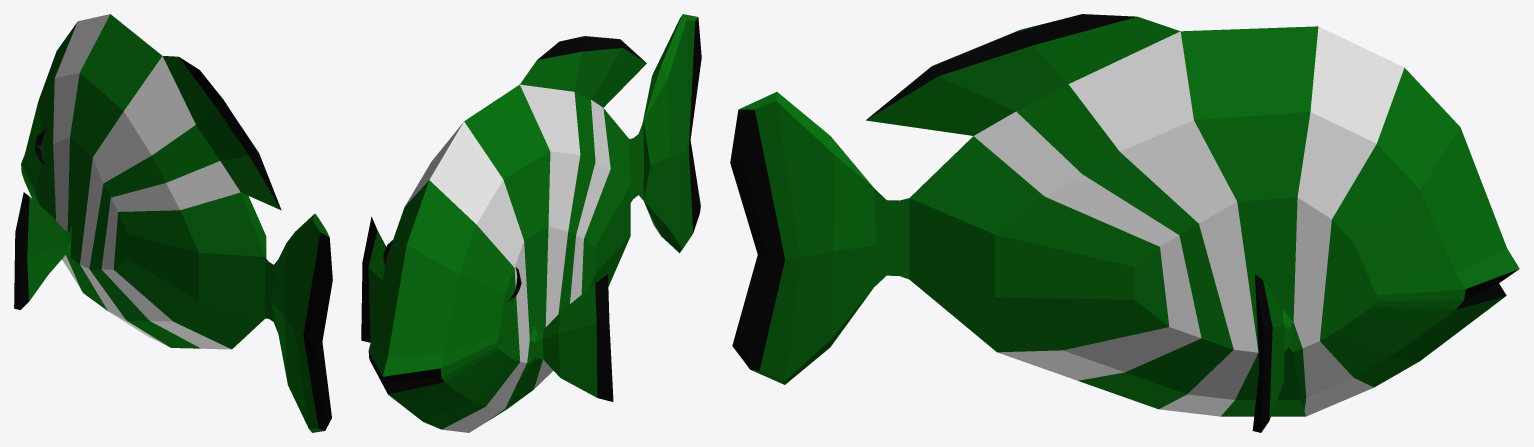
Rendered from fish6.fbx.
3 views of the same model, side by side, from view 1: azimuth 30°, elevation 25°; view 2: azimuth 150°, elevation 25°; view 3: azimuth 270°, elevation 25° (orthographic). The views are drawn at different scales.
Visible parts, largest first — view 1: Plane; view 2: Plane; view 3: Plane.
Part boxes in pixels (x1,y1,x2,y2): Plane: (14, 14, 332, 432); Plane: (361, 14, 701, 432); Plane: (730, 14, 1519, 432).
Bounding box in the file's own units: 160 × 197 × 350.
